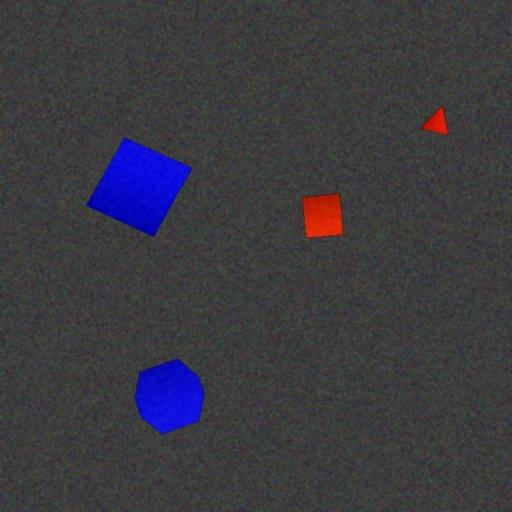BLUE_SQUARE: (86, 136, 192, 238)
RED_SQUARE: (302, 193, 344, 238)
